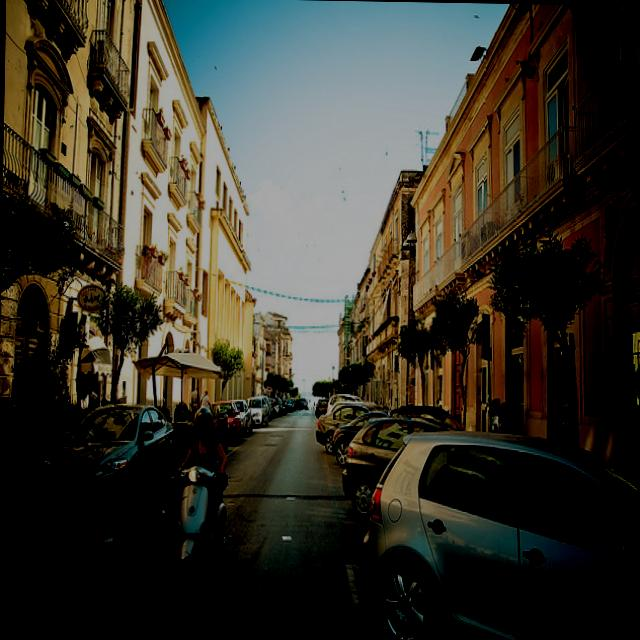Vehicle: (356, 430, 638, 638), (44, 403, 178, 512), (342, 414, 457, 522), (170, 464, 232, 594), (333, 410, 389, 468), (315, 404, 369, 454), (389, 405, 464, 431), (210, 400, 242, 445), (230, 398, 253, 434), (248, 394, 272, 426), (326, 393, 364, 413), (324, 400, 369, 416), (316, 398, 328, 418), (300, 397, 308, 408)
